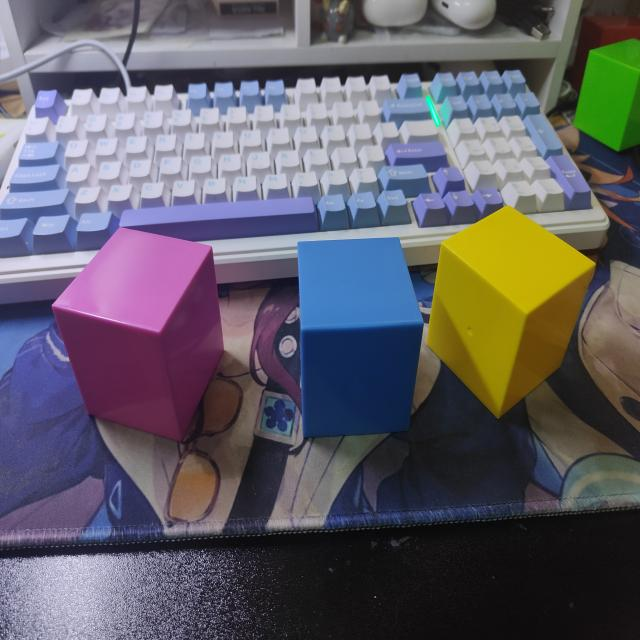blue: (295, 236, 425, 442)
pink: (51, 229, 224, 446)
yellow: (423, 207, 596, 420)
